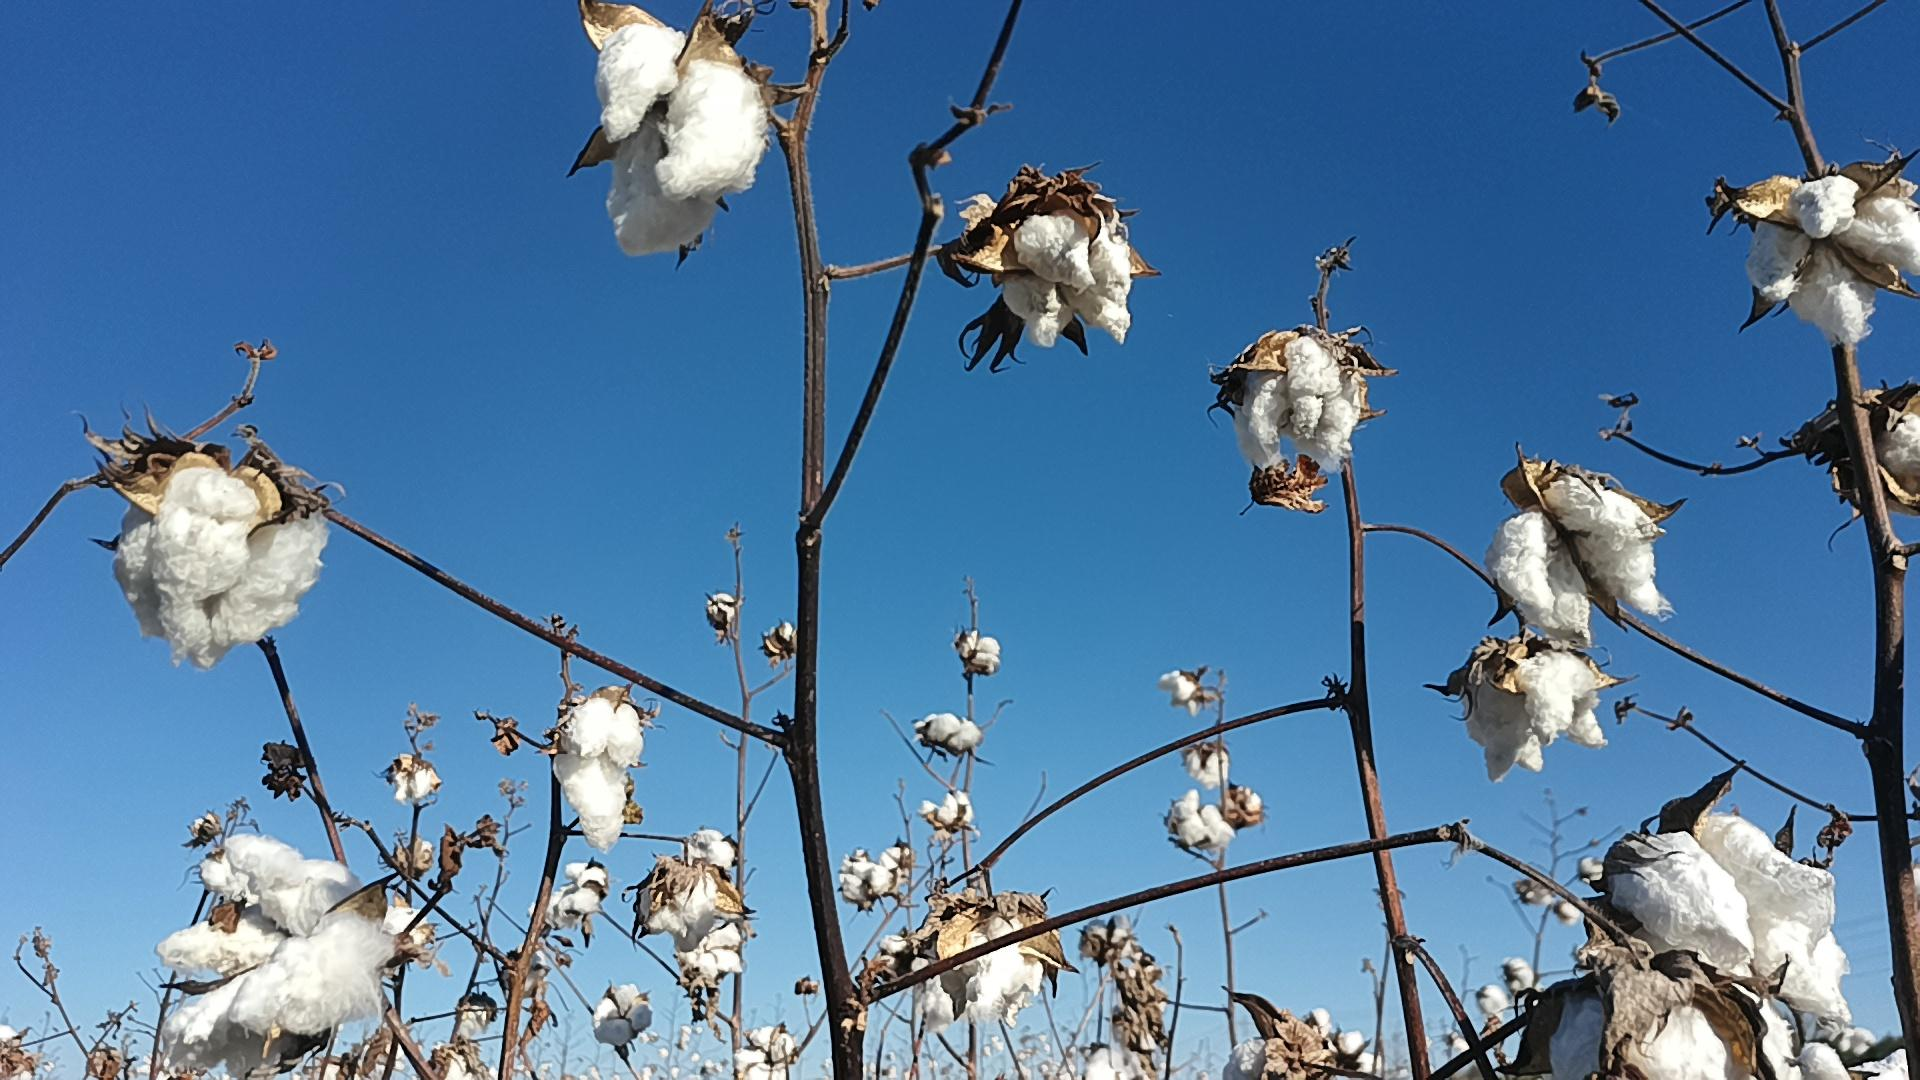cotton_ready: (1607, 814, 1851, 1080), (158, 828, 396, 1068), (109, 465, 328, 675), (593, 24, 766, 256), (1493, 476, 1672, 641), (1749, 177, 1920, 345), (1549, 981, 1788, 1080), (998, 206, 1131, 349), (1468, 655, 1607, 786), (1233, 338, 1358, 475), (555, 698, 646, 853), (922, 915, 1048, 1023), (636, 868, 725, 939), (1869, 401, 1920, 510)
